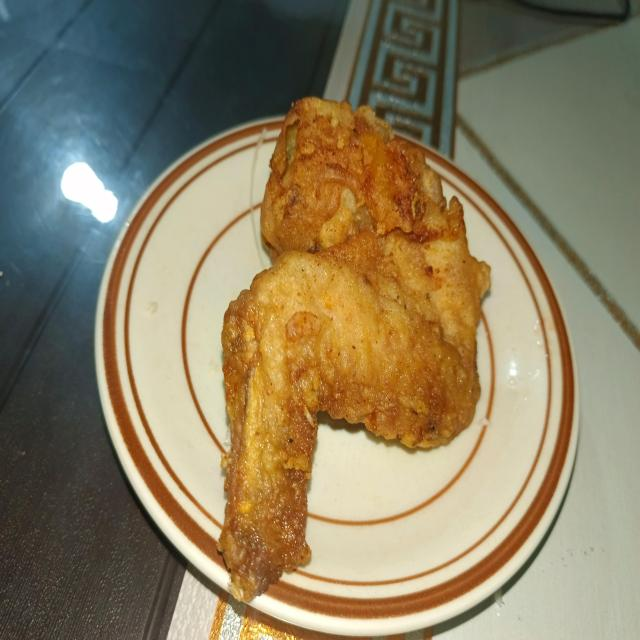Chicken -Fried Chicken-: (207, 88, 483, 608)
